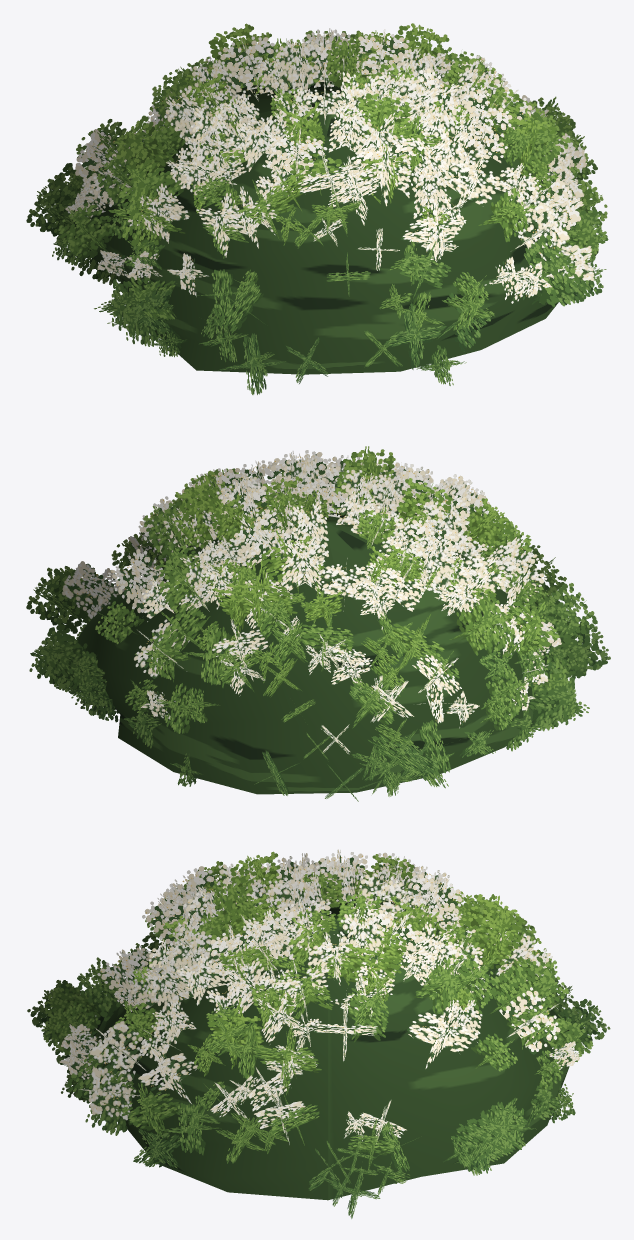
The picture shows the model from 3 angles, top to bottom: view 1: azimuth 30°, elevation 25°; view 2: azimuth 150°, elevation 25°; view 3: azimuth 270°, elevation 25°; orthographic projection. The views are drawn at different scales.
Parts seen in each view (by area): view 1: Mesh_shrub; view 2: Mesh_shrub; view 3: Mesh_shrub.
Part boxes in pixels (x1,y1,x2,y2): Mesh_shrub: (26, 23, 608, 394); Mesh_shrub: (26, 446, 610, 801); Mesh_shrub: (27, 849, 610, 1218).
Size of the model in its own units: 1.84 by 0.8457 by 1.84.
1 material, 1 textured.
